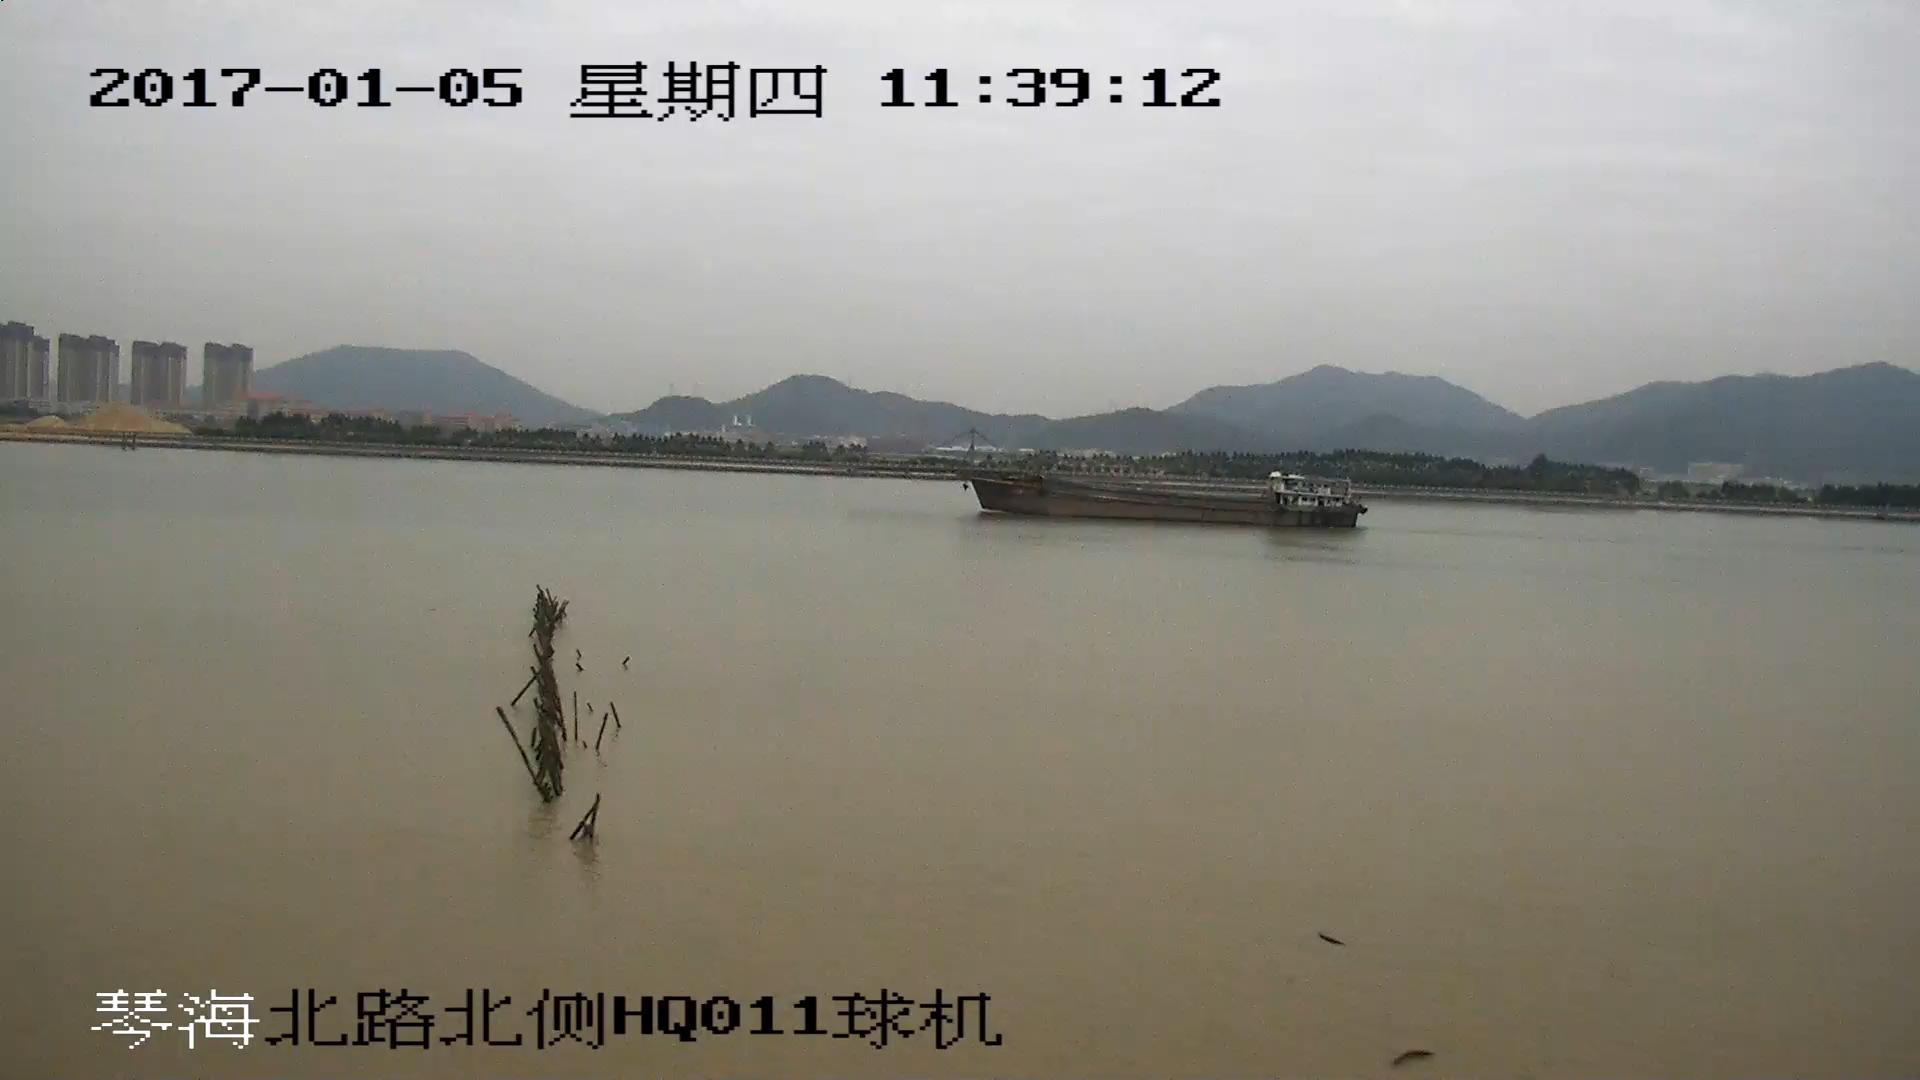bulk cargo carrier: (900, 436, 1366, 530)
